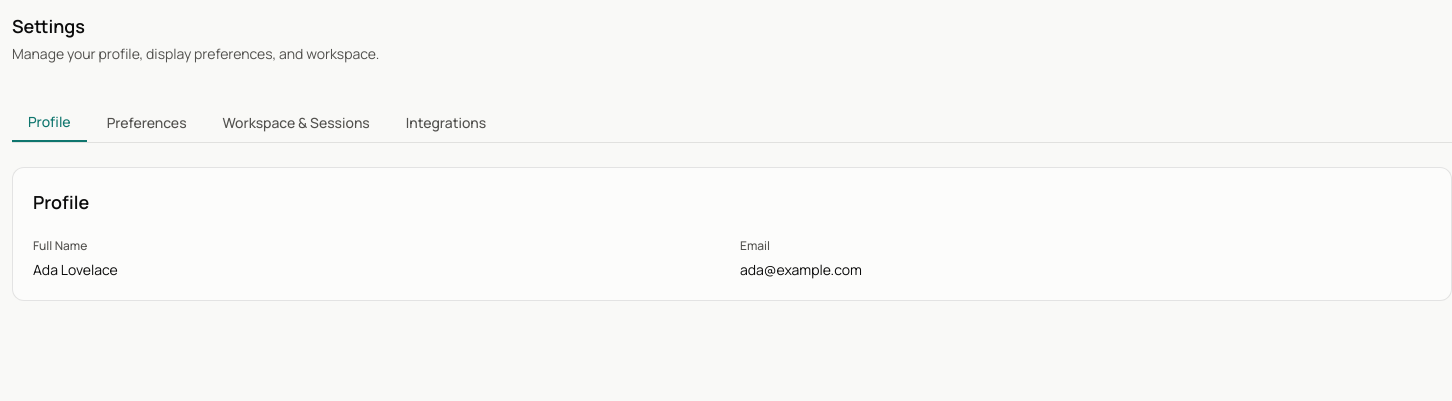
Scenario: SettingsPage › disables Save until a setting actually changes
Switch to Preferences tab
Click the button "Preferences".
click(147, 123)  # box [91,104,202,142]
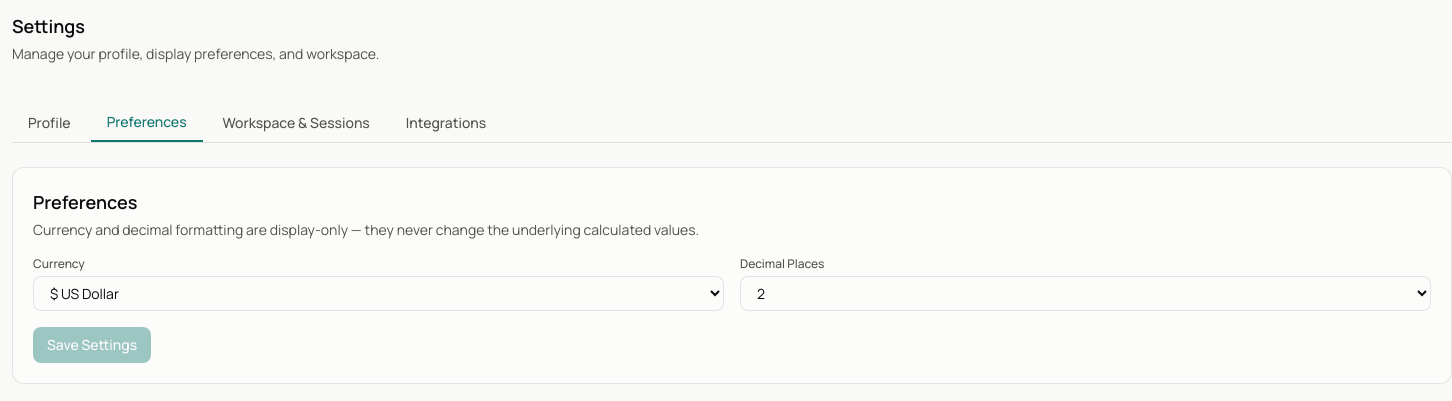
Now the button "Save Settings" is disabled, box [33,327,151,363]
